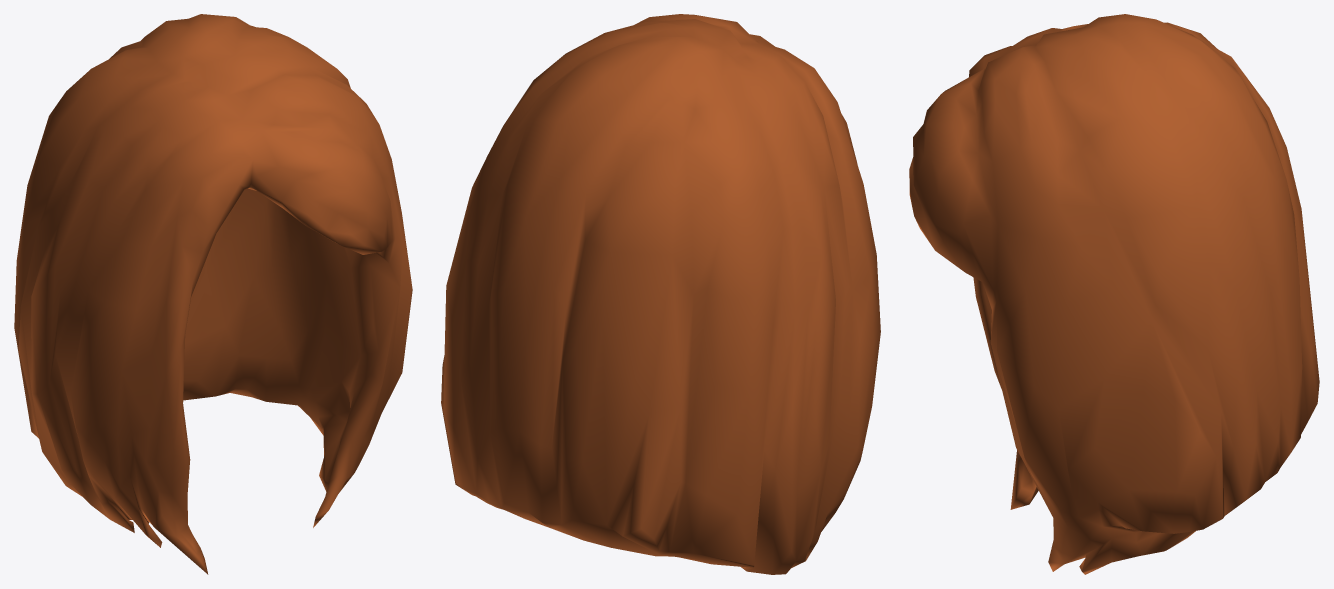
3 renders of one model, left to right at view 1: azimuth 30°, elevation 25°; view 2: azimuth 150°, elevation 25°; view 3: azimuth 270°, elevation 25°, orthographic. The views are drawn at different scales.
Visible parts, largest first — view 1: Wolf3D_Hair.078; view 2: Wolf3D_Hair.078; view 3: Wolf3D_Hair.078.
Part boxes in pixels (left/top/right/bottom): Wolf3D_Hair.078: left=14, top=14, right=412, bottom=574; Wolf3D_Hair.078: left=441, top=14, right=880, bottom=574; Wolf3D_Hair.078: left=909, top=14, right=1319, bottom=574.
Size of the model in its own units: 0.2317 by 0.3343 by 0.2428.
Materials: 1 (1 with a texture image).
